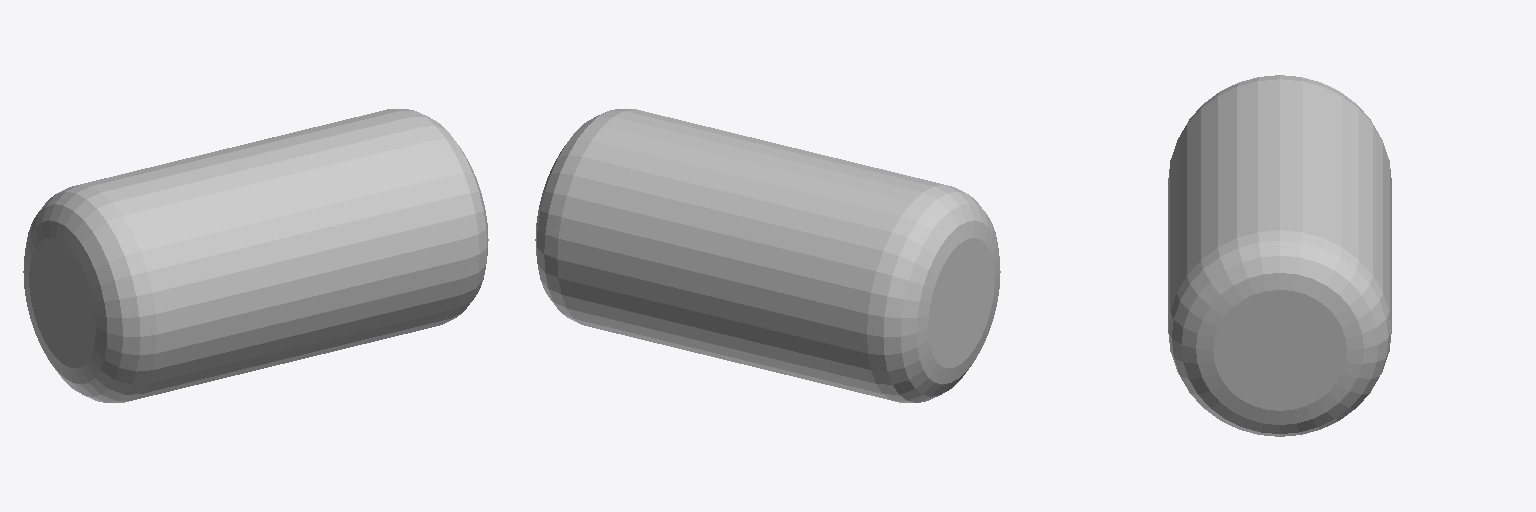
The model's file is simple engine.obj.
3 renders of one model, left to right at view 1: azimuth 30°, elevation 25°; view 2: azimuth 150°, elevation 25°; view 3: azimuth 270°, elevation 25°, orthographic.
Visible parts, largest first — view 1: Cylinder; view 2: Cylinder; view 3: Cylinder.
Boxes of the visible parts, <box> form: Cylinder: <box>23,109,488,402</box>; Cylinder: <box>535,109,1000,402</box>; Cylinder: <box>1168,75,1391,436</box>.
Size of the model in its own units: 1 by 0.5 by 0.5.